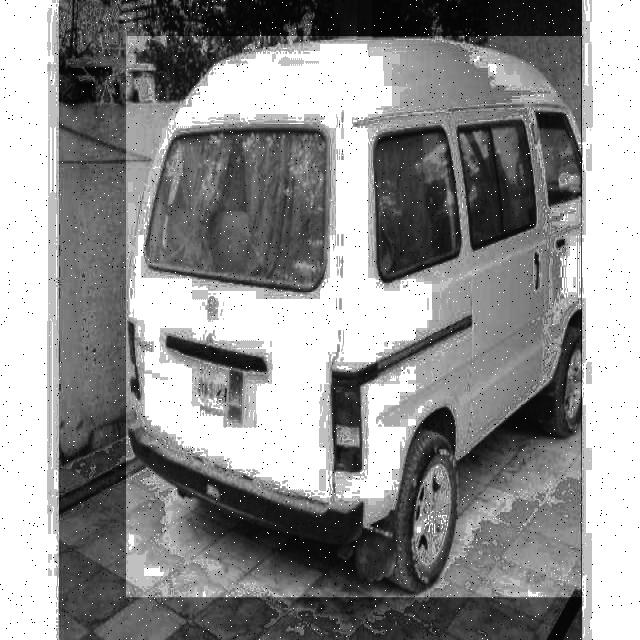LCV: (125, 36, 581, 599)
